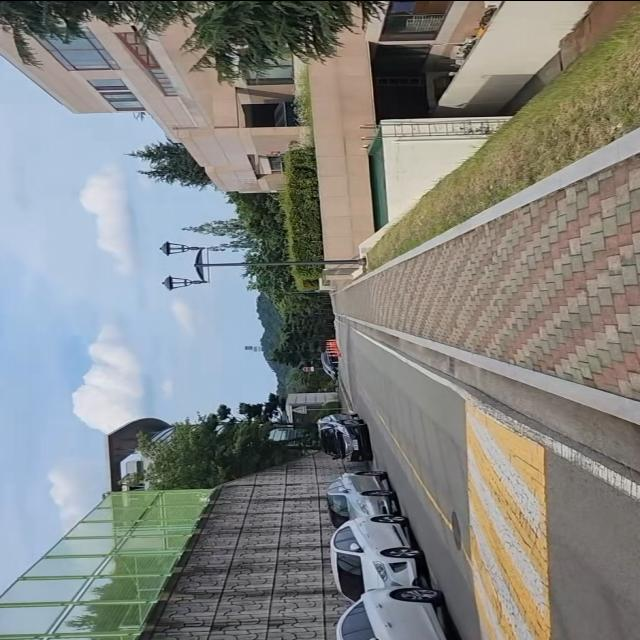obstacle: (146, 239, 374, 290), (325, 511, 431, 609), (323, 575, 465, 640), (318, 464, 407, 529), (310, 409, 371, 472)
road: (342, 320, 640, 640)
sidewalk: (335, 128, 640, 427)
